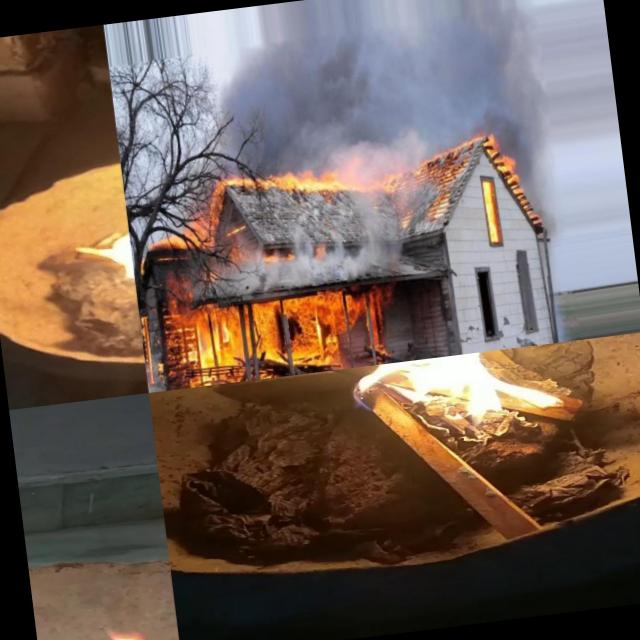fire: (298, 340, 583, 470), (160, 281, 396, 389), (33, 588, 174, 640), (212, 159, 344, 211), (146, 212, 217, 253), (475, 173, 504, 248), (491, 132, 528, 189)
smoke: (260, 42, 547, 158), (187, 218, 405, 304), (342, 138, 443, 186)
